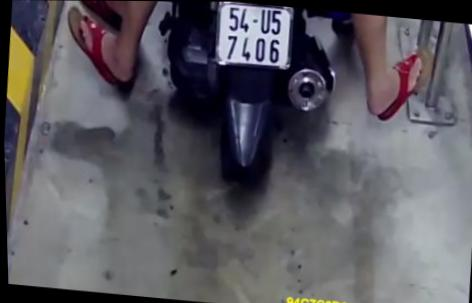LP: (212, 1, 296, 69)
